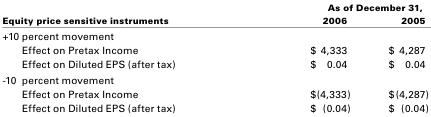table: (1, 1, 427, 113)
table column: (1, 1, 242, 113), (242, 1, 368, 113), (368, 1, 427, 113)
table column header: (1, 1, 427, 27)
table projected row header: (1, 27, 427, 42), (1, 71, 427, 86)
table row: (1, 27, 427, 42), (1, 56, 427, 71), (1, 71, 427, 86), (1, 13, 427, 27), (1, 42, 427, 56), (1, 86, 427, 100), (1, 100, 427, 113), (1, 1, 427, 13)
table spanning cell: (1, 1, 242, 27), (242, 1, 427, 13)
